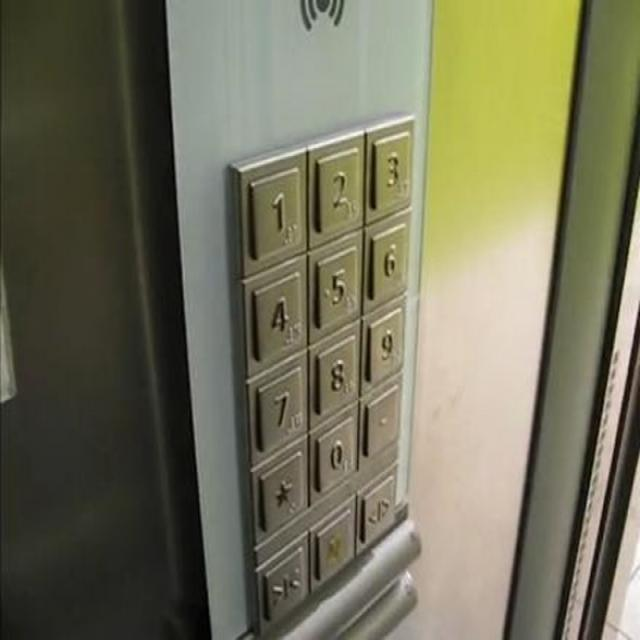-: (360, 380, 400, 460)
0: (311, 412, 354, 493)
1: (227, 142, 307, 282)
2: (297, 124, 364, 251)
3: (355, 112, 415, 225)
4: (234, 254, 307, 378)
5: (302, 227, 362, 344)
6: (360, 207, 406, 308)
7: (249, 364, 305, 452)
8: (308, 332, 359, 417)
9: (362, 301, 405, 384)
alarm: (312, 503, 353, 584)
close: (259, 541, 307, 623)
open: (359, 469, 396, 547)
s: (250, 434, 307, 534)
